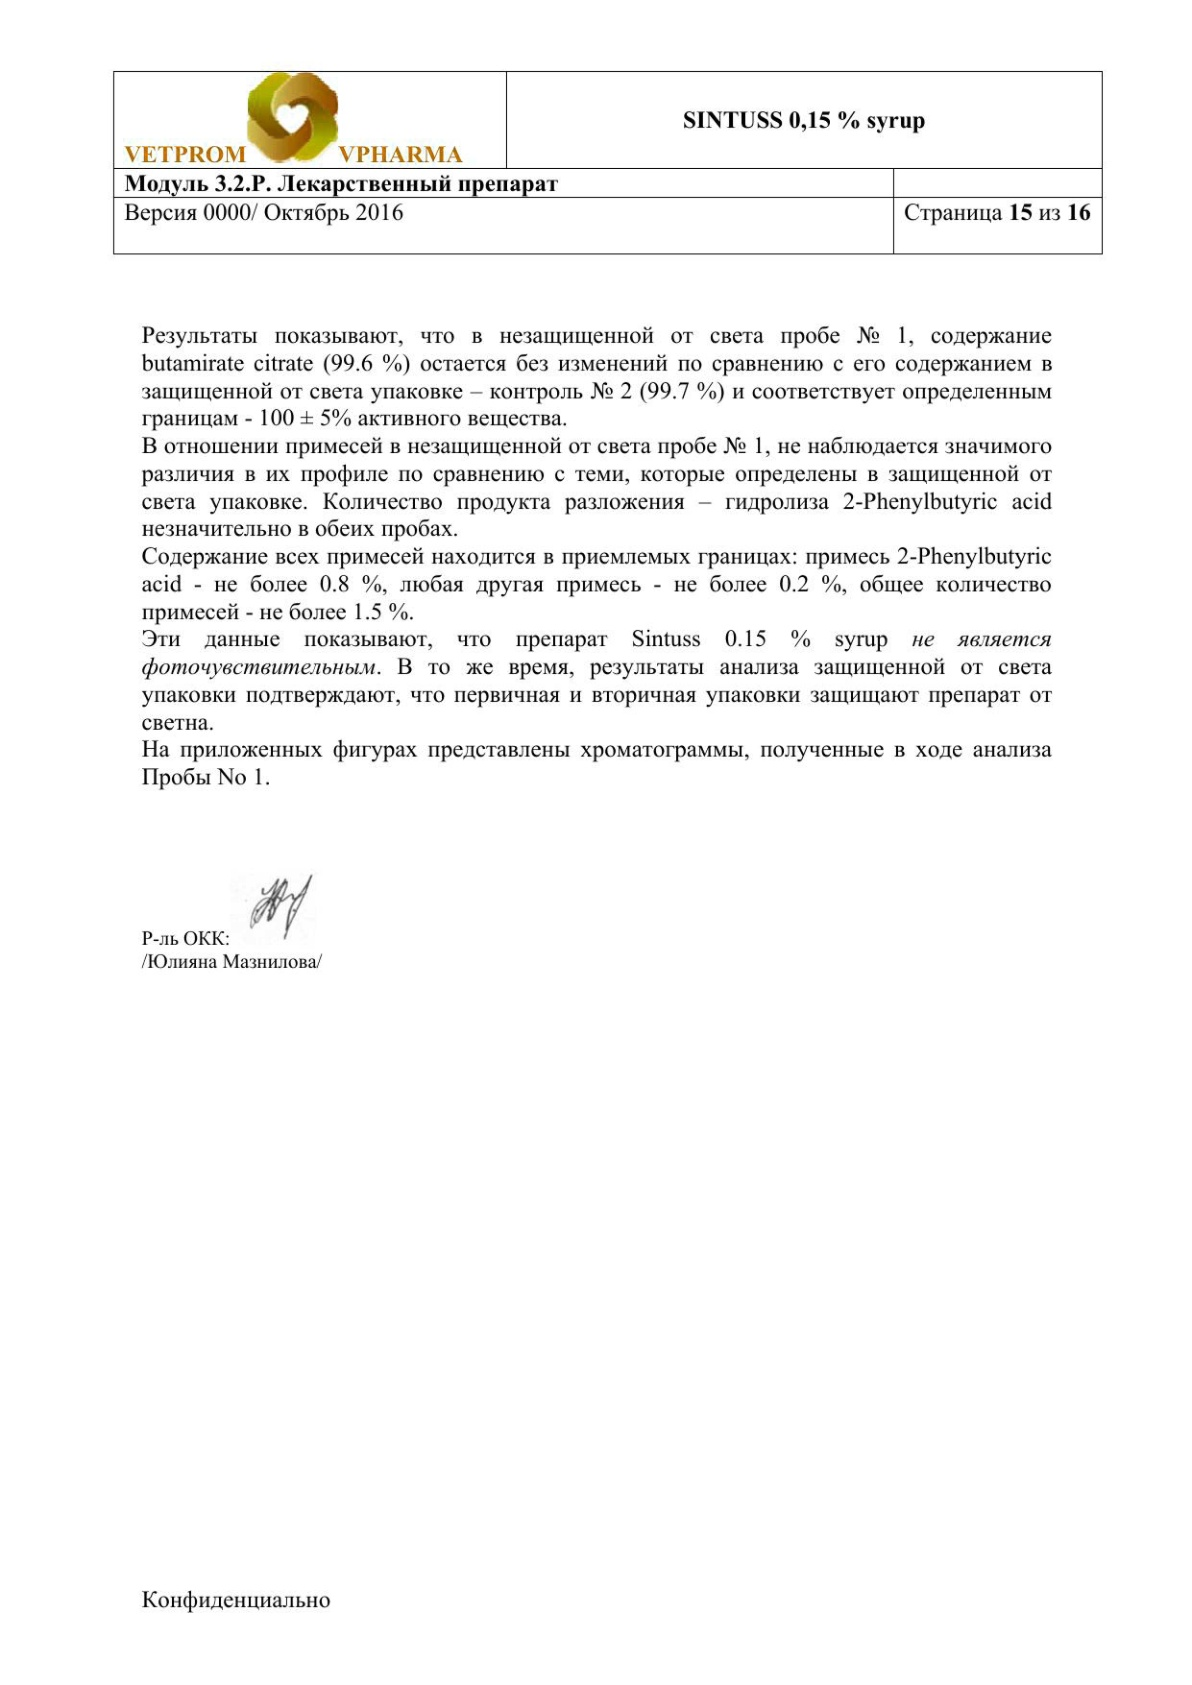merged_cells: (112, 70, 1104, 255)
